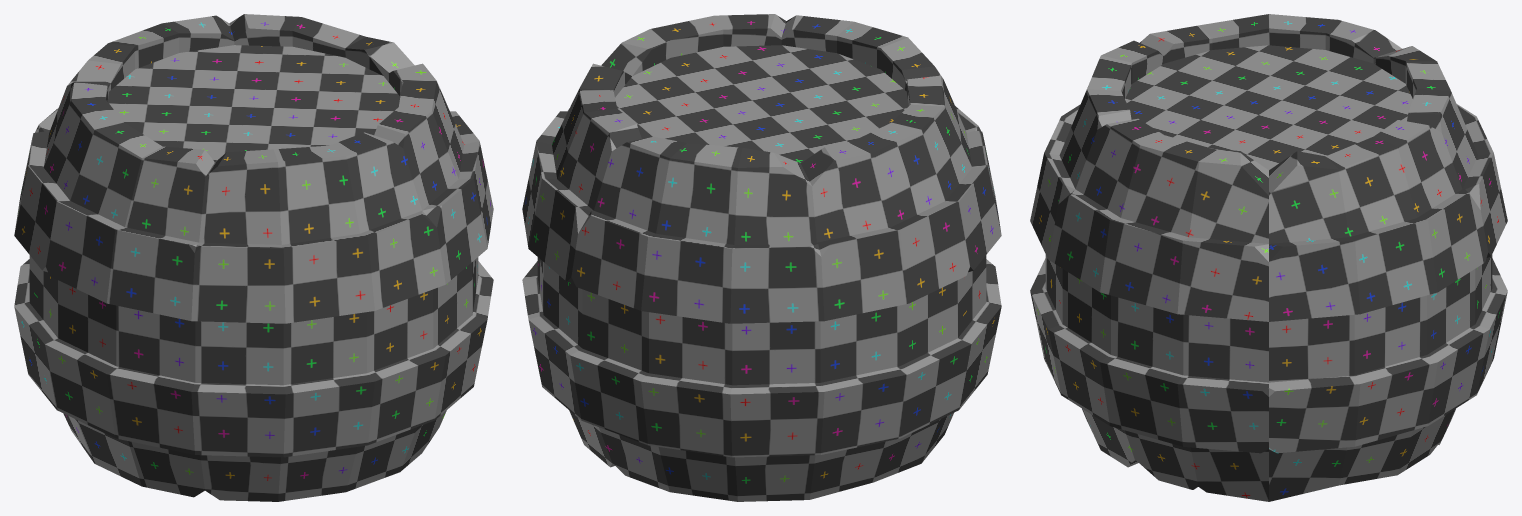
File: low-poly-barrel.glb
3 views of the same model, side by side, from view 1: azimuth 30°, elevation 25°; view 2: azimuth 150°, elevation 25°; view 3: azimuth 270°, elevation 25° (orthographic).
Visible parts, largest first — view 1: Cylinder; view 2: Cylinder; view 3: Cylinder.
Part boxes in pixels (x1,y1,x2,y2): Cylinder: [14, 14, 493, 501]; Cylinder: [522, 14, 1001, 501]; Cylinder: [1030, 14, 1507, 501].
Bounding box in the file's own units: 2.62 × 2.06 × 2.62.
Materials: 1 (1 with a texture image).
